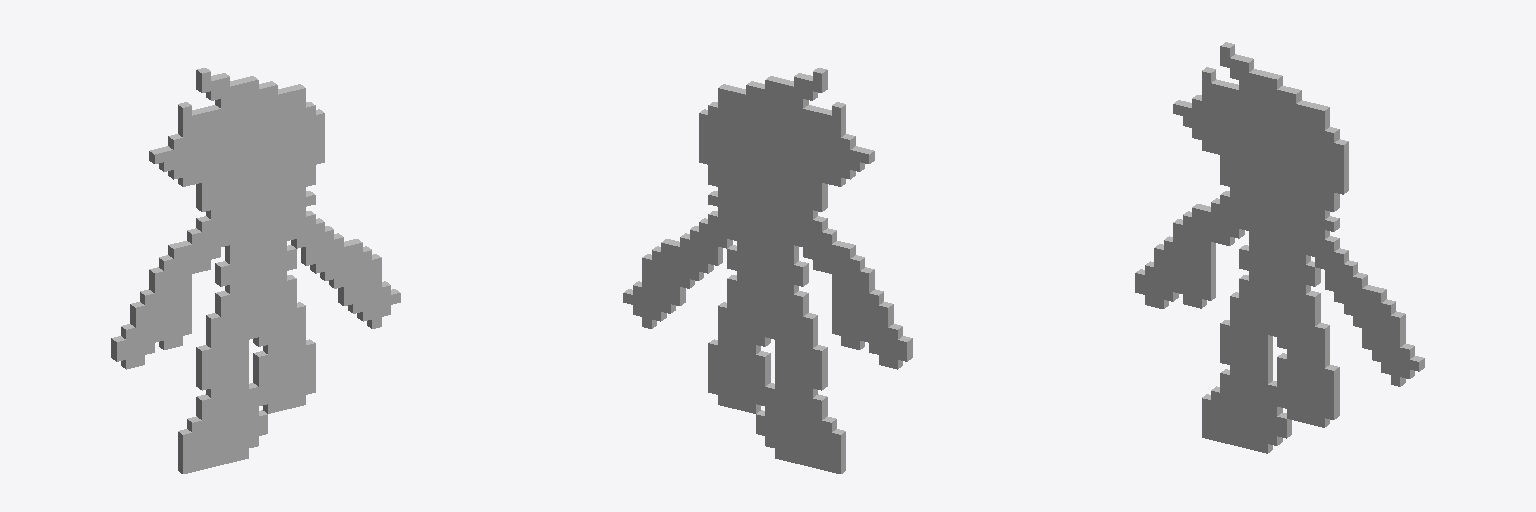
The model's file is RunDown3.obj.
3 renders of one model, left to right at view 1: azimuth 30°, elevation 25°; view 2: azimuth 150°, elevation 25°; view 3: azimuth 330°, elevation 25°, orthographic.
Visible parts, largest first — view 1: RunDown3; view 2: RunDown3; view 3: RunDown3.
Part boxes in pixels (left/top/right/bottom): RunDown3: left=111, top=68, right=400, bottom=473; RunDown3: left=623, top=68, right=912, bottom=473; RunDown3: left=1135, top=42, right=1424, bottom=453.
Bounding box in the file's own units: 3 × 4 × 0.1.